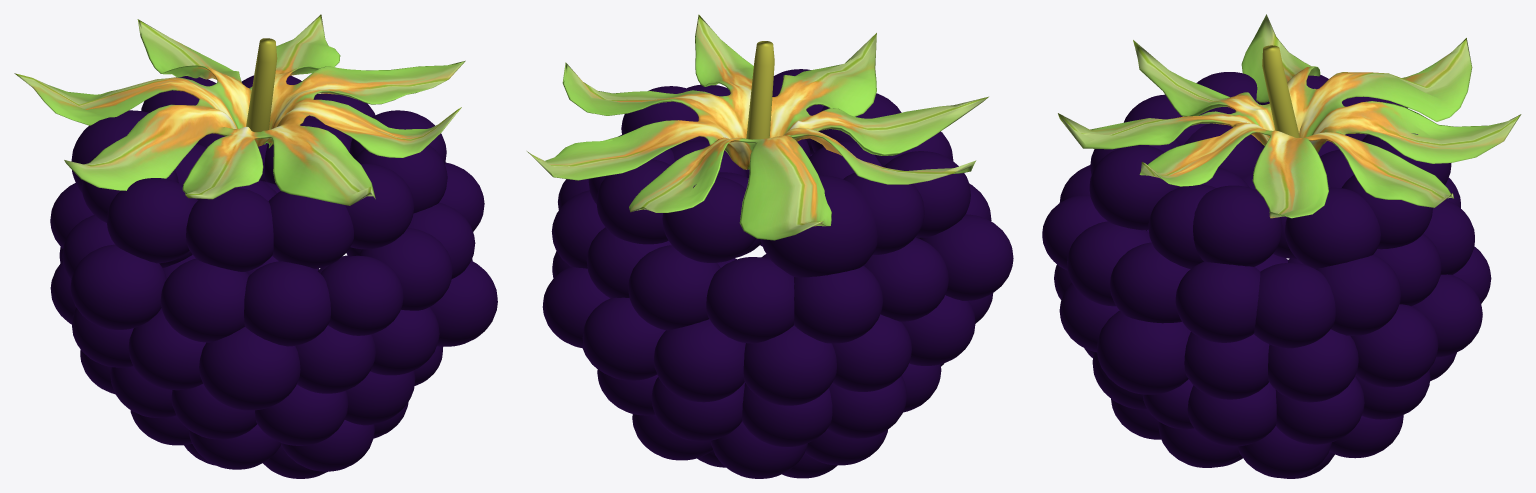
The picture shows the model from 3 angles, left to right: view 1: azimuth 30°, elevation 25°; view 2: azimuth 150°, elevation 25°; view 3: azimuth 270°, elevation 25°; orthographic projection.
Parts seen in each view (by area): view 1: blackberry1; view 2: blackberry1; view 3: blackberry1.
Part boxes in pixels (x1,y1,x2,y2): blackberry1: (14, 14, 497, 478); blackberry1: (527, 14, 1013, 478); blackberry1: (1042, 14, 1521, 478).
Size of the model in its own units: 1.51 by 1.45 by 1.53.
3 materials, 1 textured.
